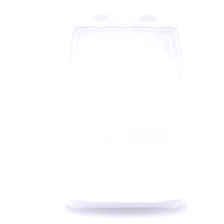foam_box: (43, 7, 210, 213)
